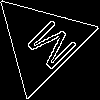M: (17, 17, 79, 80)
